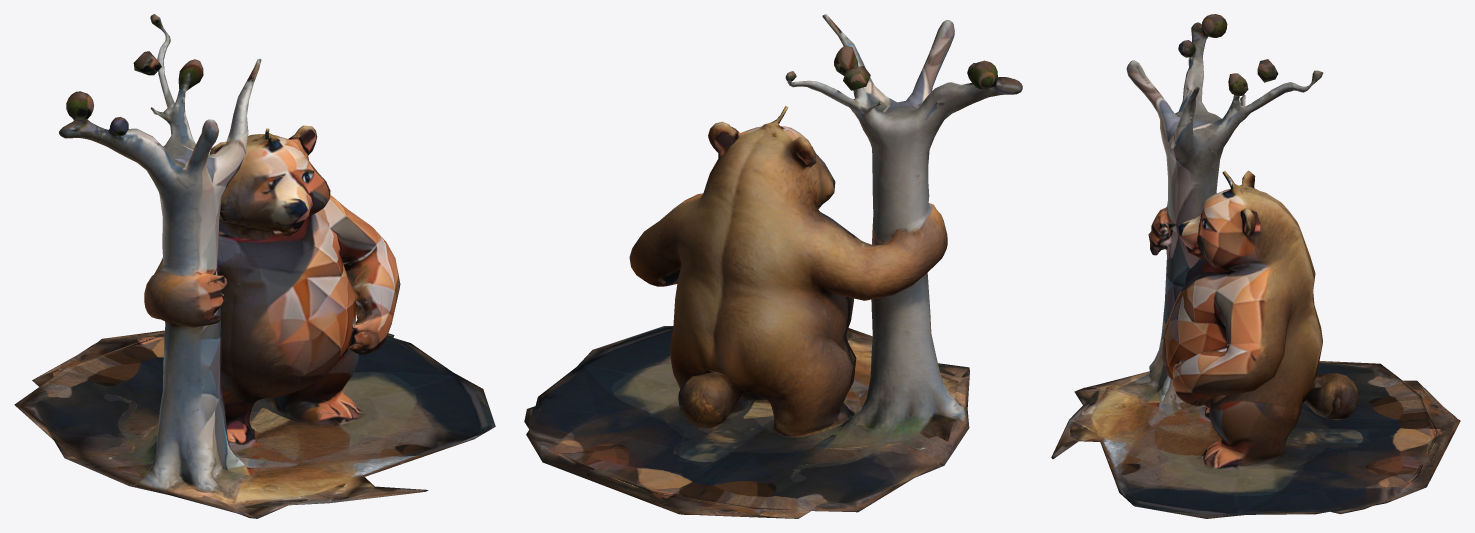
File: OsoMadroño.fbx
3 renders of one model, left to right at view 1: azimuth 30°, elevation 25°; view 2: azimuth 150°, elevation 25°; view 3: azimuth 270°, elevation 25°, orthographic. The views are drawn at different scales.
Parts seen in each view (by area): view 1: Mesh_0; view 2: Mesh_0; view 3: Mesh_0.
Part boxes in pixels (box(x1,y1,x2,y2)): Mesh_0: box(14, 14, 495, 518); Mesh_0: box(524, 14, 1022, 518); Mesh_0: box(1051, 14, 1460, 518).
Bounding box in the file's own units: 198 × 174 × 190.
Materials: 1 (1 with a texture image).
